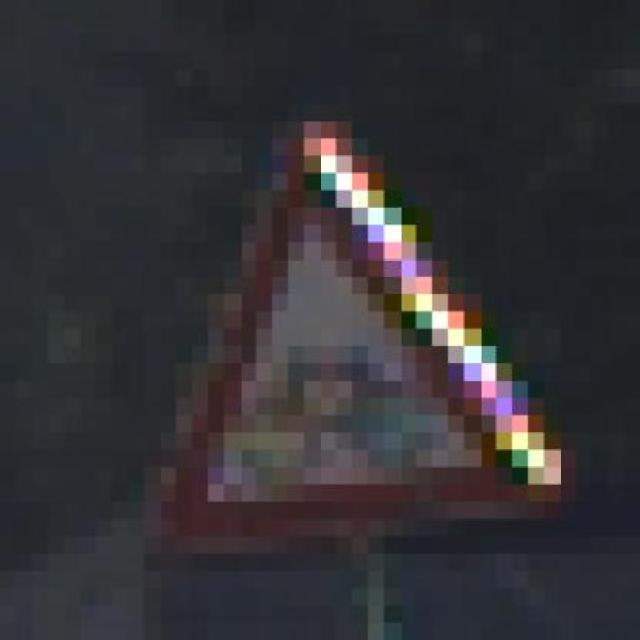CYCLE ROUTE AHEAD WARNING: (96, 103, 576, 571)
